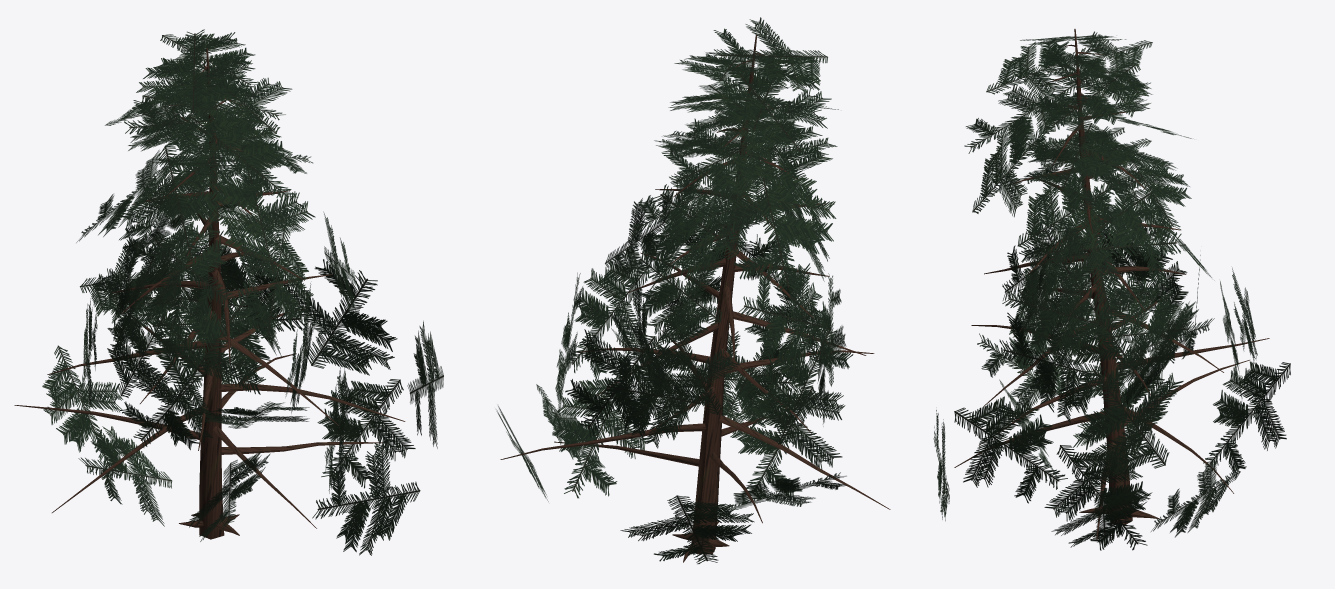
The model's file is DarkPine_1_LOD2.gltf.
3 renders of one model, left to right at view 1: azimuth 30°, elevation 25°; view 2: azimuth 150°, elevation 25°; view 3: azimuth 270°, elevation 25°, orthographic. The views are drawn at different scales.
Visible parts, largest first — view 1: DarkPine_1_LOD2; view 2: DarkPine_1_LOD2; view 3: DarkPine_1_LOD2.
Boxes of the visible parts, x1,y1,x2,y2 form: DarkPine_1_LOD2: (14, 29, 443, 555); DarkPine_1_LOD2: (496, 17, 890, 564); DarkPine_1_LOD2: (933, 29, 1290, 550).
Size of the model in its own units: 12.85 by 17.16 by 12.51.
2 materials, 2 textured.
